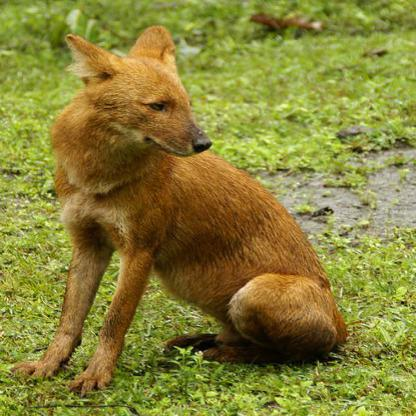dhole: (6, 22, 347, 395)
